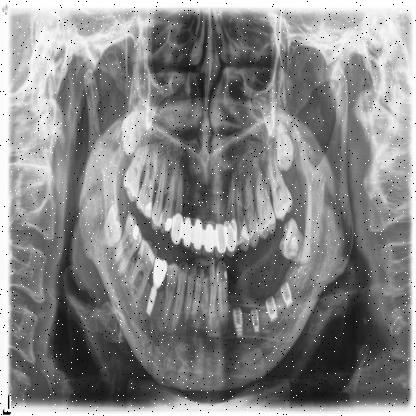Bicon: (143, 281, 160, 323), (281, 279, 292, 307), (266, 292, 276, 322), (234, 308, 244, 336), (252, 308, 260, 330)
